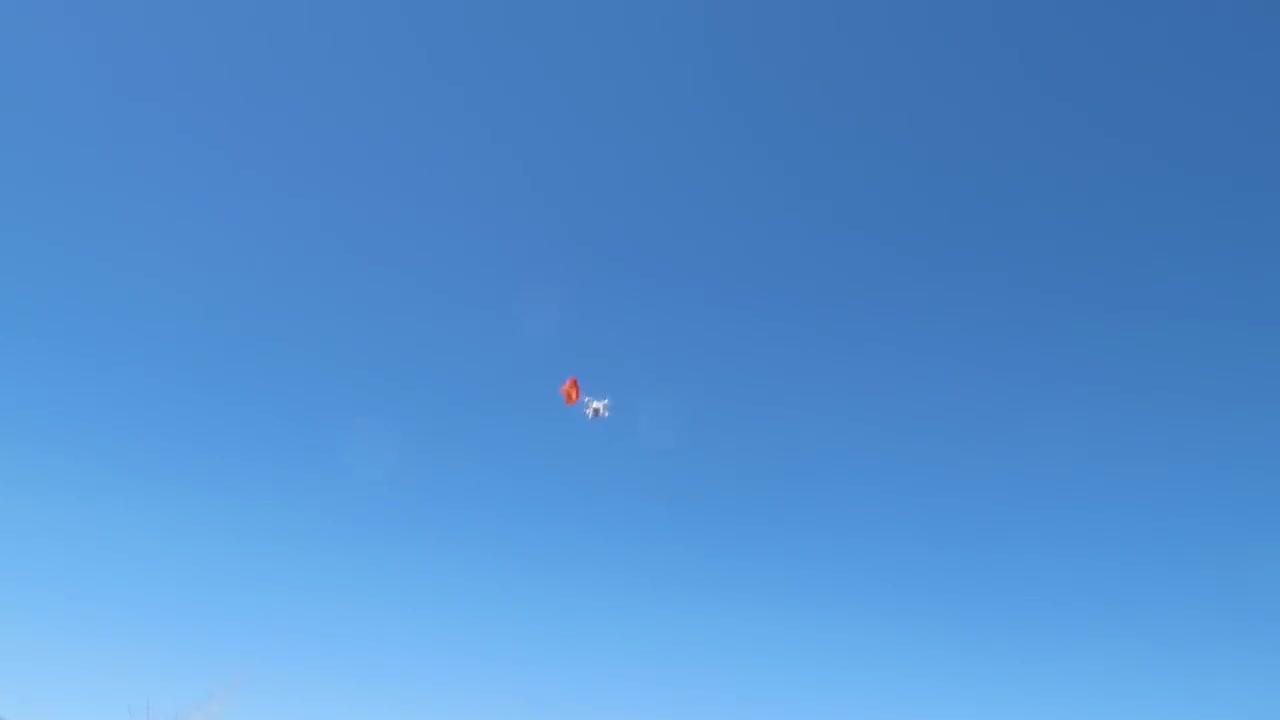UAV: (584, 396, 610, 421)
